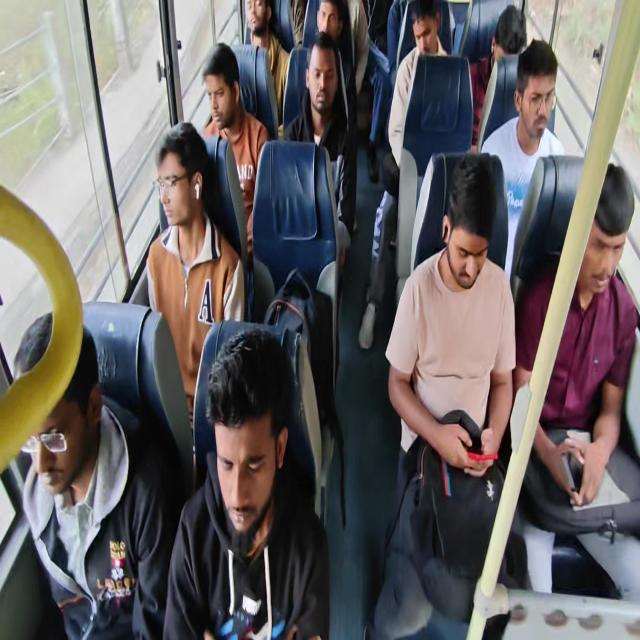person: (374, 152, 526, 635), (512, 158, 638, 598), (162, 327, 330, 638), (18, 319, 172, 638), (146, 120, 245, 448), (357, 0, 449, 349), (480, 38, 565, 280), (282, 33, 356, 264), (200, 42, 270, 254), (386, 0, 449, 172), (469, 4, 526, 145), (243, 0, 290, 123)
